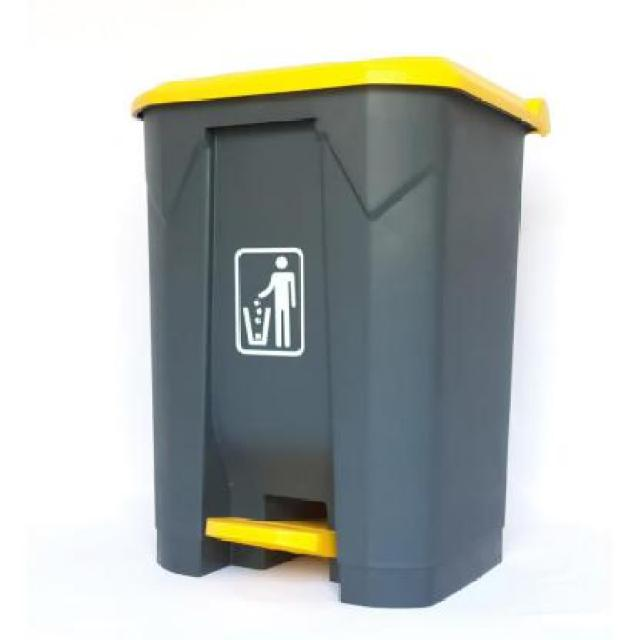garbage container: (108, 53, 570, 615)
